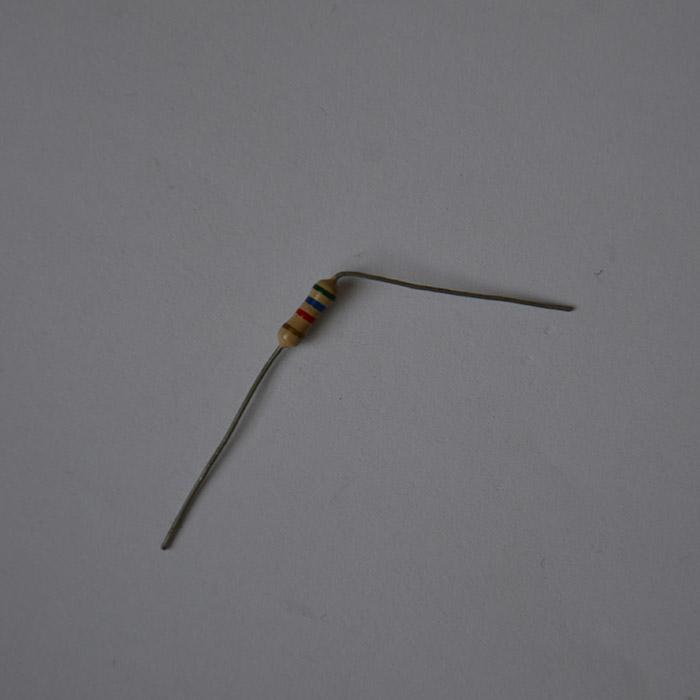resistor: (278, 275, 336, 349)
